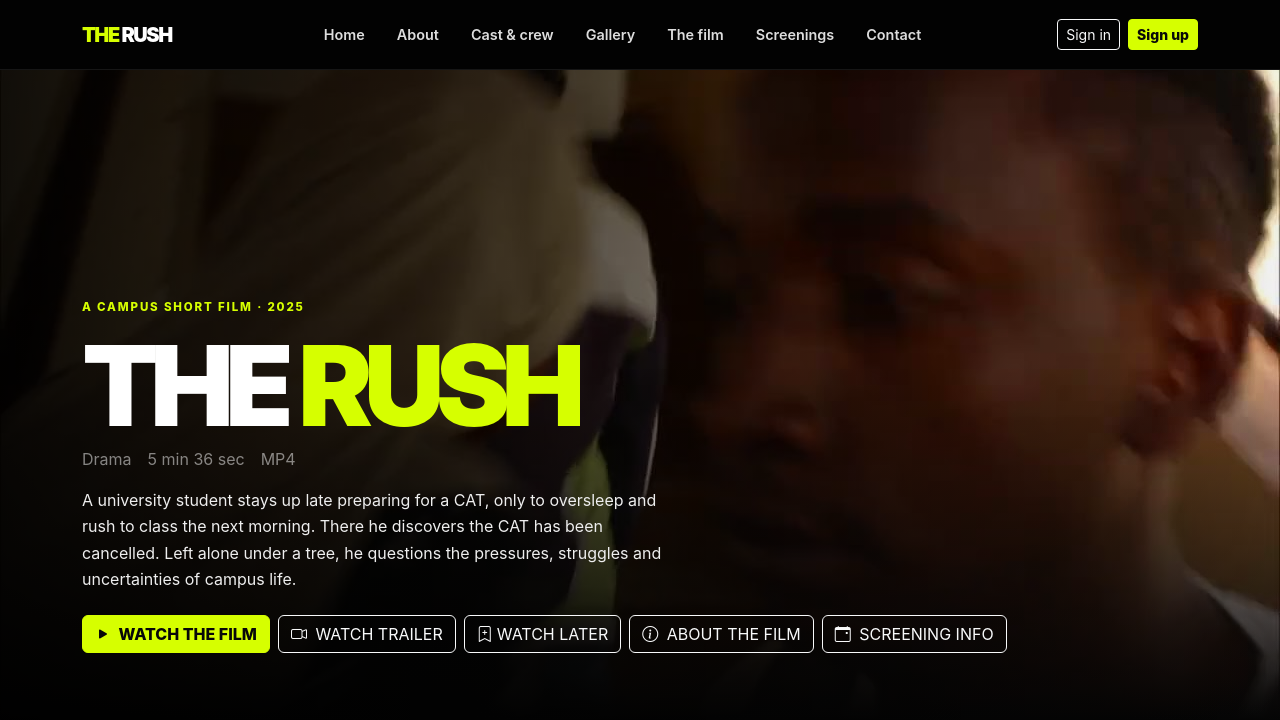
Test: opens a dedicated profile page for a cast or crew member
Step 1. Click the link "Cast & crew" → (512, 34), box top-left (471, 26), bottom-right (554, 43)
(page scrolled)
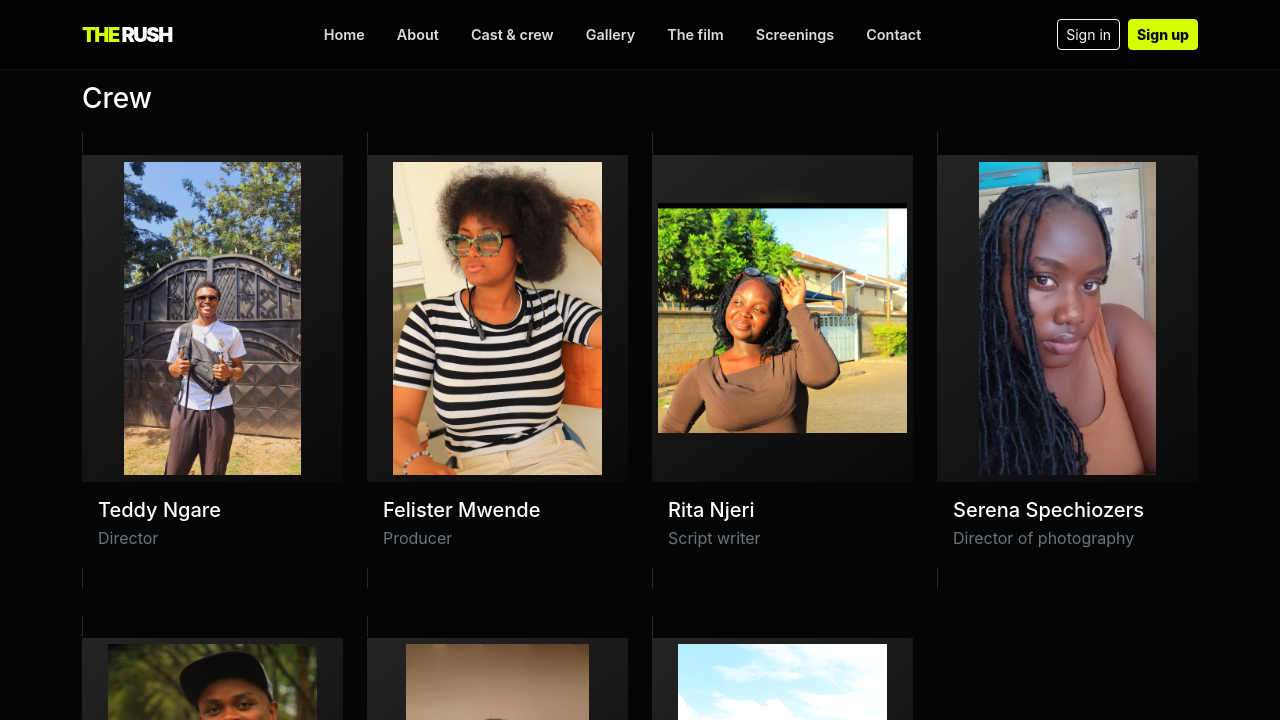
Step 2. Click the link "Teddy Ngare Director" → (82, 143), box top-left (82, 132), bottom-right (343, 589)
(page scrolled)
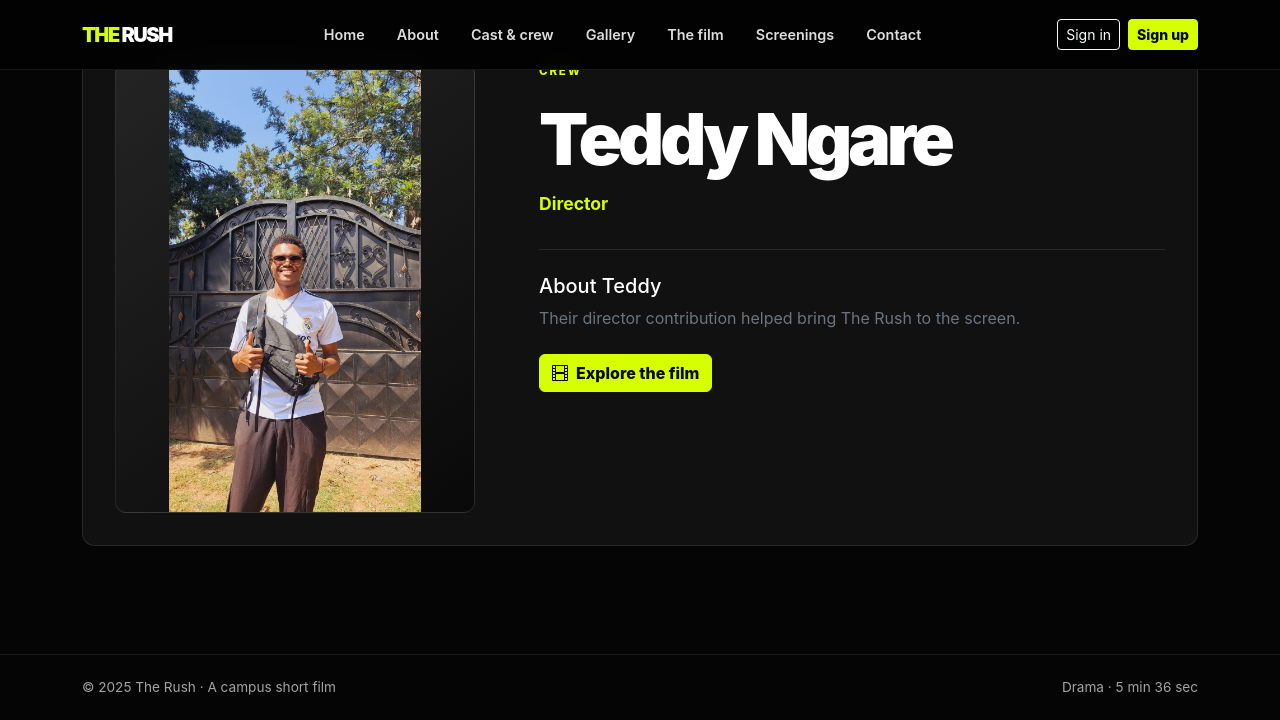
expect the text "Director" is shown: met, box top-left (539, 193), bottom-right (608, 214)
expect the heading "Teddy Ngare" is shown: met, box top-left (539, 95), bottom-right (951, 182)
